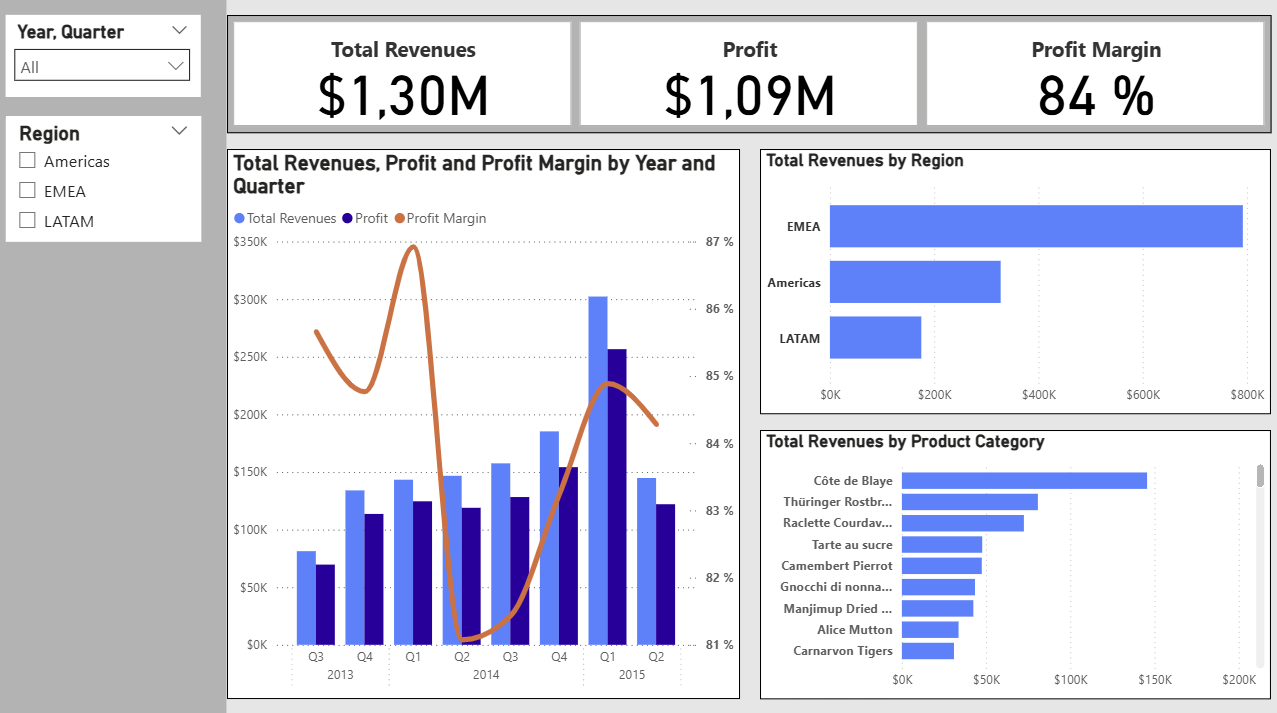

Layout of this report page (visuals, bound fields, positions):
{"tool":"powerbi","page":{"name":"Executive","canvas":[1280,720],"ordinal":0},"visuals":[{"type":"cardVisual","title":"KPI","fields":{"Data":["kpi.Total Revenues","kpi.Profit_1","kpi.Profit Margin"]},"box":[238.8,25,1016.2,114.9],"z":0},{"type":"slicer","fields":{"Values":["date_table.calendar.Year","date_table.calendar.Quarter"]},"box":[22.7,25.4,191.3,79.8],"z":1000},{"type":"lineClusteredColumnComboChart","fields":{"Y":["kpi.Total Revenues","kpi.Profit"],"Y2":["kpi.Profit Margin"],"Category":["date_table.calendar.Year","date_table.calendar.Quarter","date_table.calendar.Month"]},"box":[238.8,155.9,498.6,534.6],"z":2000},{"type":"clusteredBarChart","title":"Total Revenues by Region","fields":{"Category":["customers.geography.region","customers.geography.country","customers.geography.city"],"Y":["kpi.Total Revenues"]},"box":[757.4,155.9,496.6,257.8],"z":3000},{"type":"clusteredBarChart","title":"Total Revenues by Product Category","fields":{"Category":["categories.Category Name","products.productName"],"Y":["Sum(order_details.revenues)"]},"box":[757.4,428.7,496.6,261.8],"z":4000},{"type":"shape","box":[0,0,23.7,719.5],"z":5000},{"type":"shape","box":[214.2,0,24.6,719.1],"z":6000},{"type":"shape","box":[12.4,0,214.3,24.8],"z":7000},{"type":"shape","box":[22.6,104.9,191.7,20.3],"z":8000},{"type":"shape","box":[17,245.8,204.8,474.6],"z":9000},{"type":"slicer","fields":{"Values":["customers.geography.region"]},"box":[24,123.9,189.9,121.9],"z":10000}]}

Visuals, with their boxes in screenshot pixels (x1, y1, x2, y2), scaled from the page's 1280x720 canvas onto the 1277x713 screenshot:
"KPI" cardVisual: 238:25:1252:139
slicer - date_table.calendar.Year x date_table.calendar.Quarter: 23:25:213:104
lineClusteredColumnComboChart - kpi.Total Revenues x kpi.Profit: 238:154:736:684
"Total Revenues by Region" clusteredBarChart: 756:154:1251:410
"Total Revenues by Product Category" clusteredBarChart: 756:425:1251:684
shape: 0:0:24:712
shape: 214:0:238:712
shape: 12:0:226:25
shape: 23:104:214:124
shape: 17:243:221:712
slicer - customers.geography.region: 24:123:213:243
